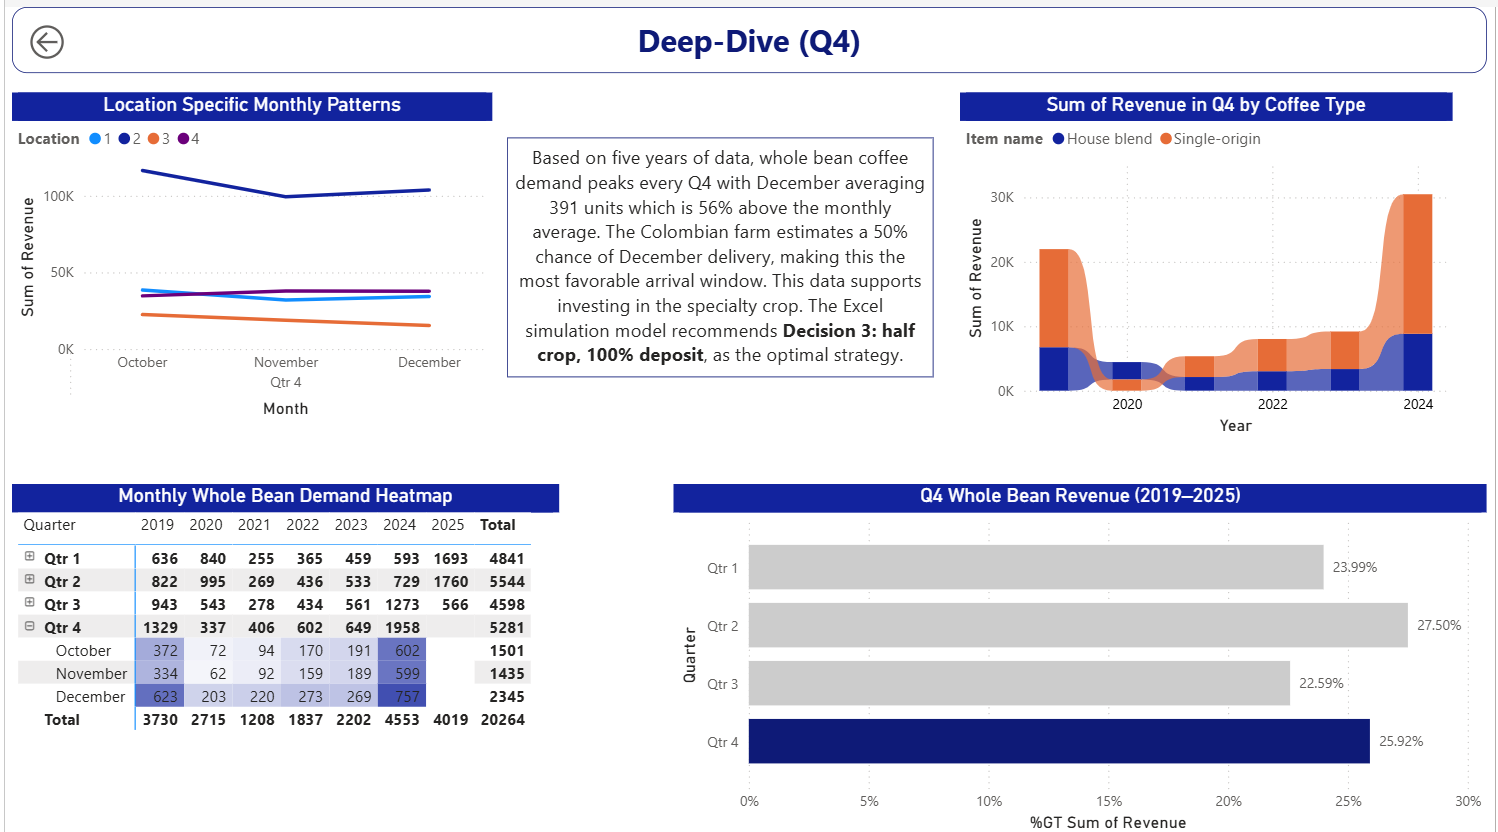

This screenshot's page, from the dashboard's own definition file:
{"tool":"powerbi","page":{"name":"Deep-Dive","canvas":[1280,720],"ordinal":3},"visuals":[{"type":"clusteredBarChart","title":"Q4 Whole Bean Revenue (2019–2025)","fields":{"Category":["TransactionData.Date.Variation.Date Hierarchy.Year","TransactionData.Date.Variation.Date Hierarchy.Quarter","TransactionData.Date.Variation.Date Hierarchy.Month","TransactionData.Date.Variation.Date Hierarchy.Day"],"Y":["Sum(TransactionData.Revenue)"]},"box":[573.9,413.4,705.6,305.9],"z":0},{"type":"pivotTable","title":"Monthly Whole Bean Demand Heatmap","fields":{"Columns":["TransactionData.Date.Variation.Date Hierarchy.Year"],"Rows":["TransactionData.Date.Variation.Date Hierarchy.Quarter","TransactionData.Date.Variation.Date Hierarchy.Month"],"Values":["Sum(TransactionData.Qty)"]},"box":[0,413.9,474.3,243.8],"z":1000},{"type":"lineChart","title":"Location Specific Monthly Patterns ","fields":{"Category":["TransactionData.Date.Variation.Date Hierarchy.Quarter","TransactionData.Date.Variation.Date Hierarchy.Month","TransactionData.Date.Variation.Date Hierarchy.Day"],"Series":["TransactionData.Location"],"Y":["Sum(TransactionData.Revenue)"]},"box":[0,74.2,416.4,286.2],"z":2000},{"type":"textbox","box":[0,0,1279.5,57.5],"z":3000},{"type":"ribbonChart","title":"Sum of Revenue in Q4 by Coffee Type","fields":{"Category":["TransactionData.Date.Variation.Date Hierarchy.Year","TransactionData.Date.Variation.Date Hierarchy.Quarter"],"Series":["PriceList.Item name"],"Y":["Sum(TransactionData.Revenue)"]},"box":[822.2,74.2,427,301.3],"z":4000},{"type":"actionButton","box":[10,10,100,40],"z":5000},{"type":"textbox","box":[430,113.3,370,207.8],"z":6000}]}

Visuals, with their boxes in screenshot pixels (x1, y1, x2, y2), scaled from the page's 1280x720 canvas onto the 1498x832 screenshot:
"Q4 Whole Bean Revenue (2019–2025)" clusteredBarChart: (672, 478, 1497, 831)
"Monthly Whole Bean Demand Heatmap" pivotTable: (0, 478, 555, 760)
"Location Specific Monthly Patterns " lineChart: (0, 86, 487, 416)
textbox: (0, 0, 1497, 66)
"Sum of Revenue in Q4 by Coffee Type" ribbonChart: (962, 86, 1462, 434)
actionButton: (12, 12, 129, 58)
textbox: (503, 131, 936, 371)
